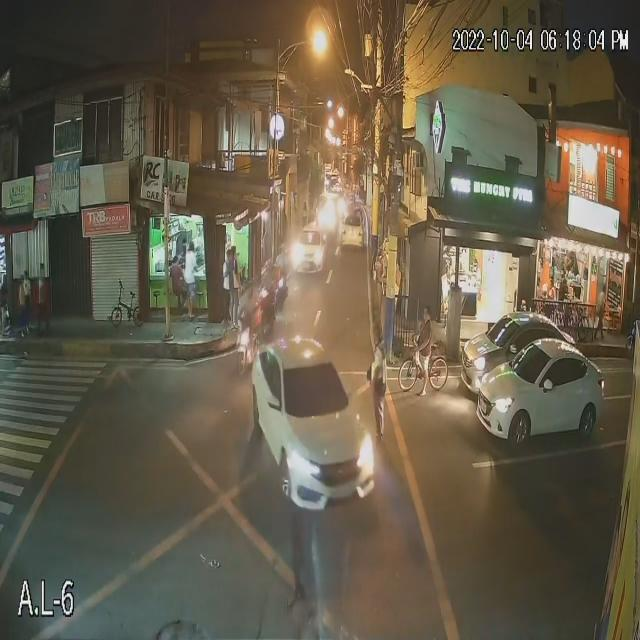motorcycle: (237, 316, 272, 359), (263, 281, 292, 307)
